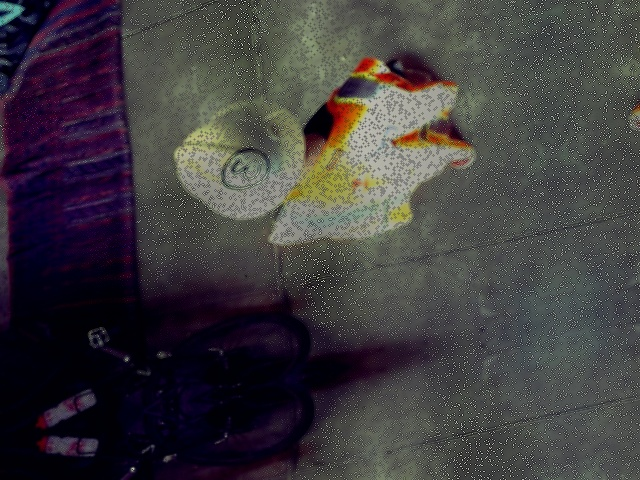three: (220, 143, 270, 192)
